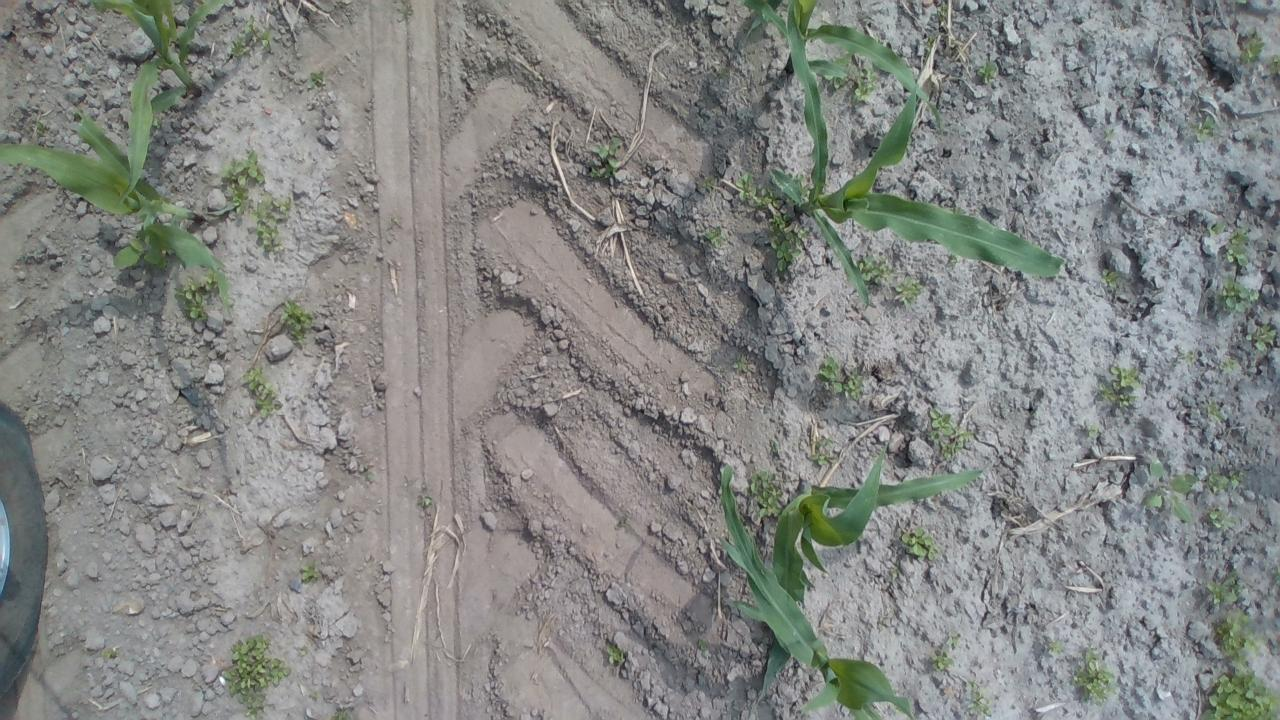Maize: (739, 0, 1064, 308), (732, 460, 988, 710), (714, 461, 916, 720), (0, 114, 234, 318), (93, 0, 230, 210), (782, 0, 942, 126), (748, 0, 782, 41)
Weeds: (222, 629, 291, 720), (1202, 668, 1280, 720), (1143, 457, 1198, 526), (1215, 606, 1267, 670), (1072, 640, 1122, 704), (220, 146, 266, 212), (252, 188, 294, 260), (925, 406, 976, 463), (767, 209, 812, 273), (241, 361, 279, 420), (176, 270, 217, 324), (818, 354, 866, 400), (225, 12, 272, 57), (584, 132, 626, 182), (735, 167, 784, 207), (1098, 364, 1140, 410), (110, 239, 170, 271), (750, 466, 784, 520), (1220, 274, 1262, 316), (930, 626, 964, 672), (280, 299, 313, 346), (1207, 566, 1243, 608), (902, 526, 940, 562), (856, 250, 896, 284), (852, 63, 882, 105), (1224, 224, 1252, 266), (964, 678, 994, 716), (893, 273, 925, 308), (1239, 25, 1265, 66), (1206, 468, 1246, 492), (1244, 322, 1272, 352), (1188, 116, 1216, 142), (1208, 505, 1236, 529), (298, 557, 322, 582), (703, 223, 726, 247), (806, 450, 837, 467), (978, 58, 998, 84), (1208, 395, 1226, 422), (605, 642, 625, 665), (306, 70, 328, 90), (731, 352, 749, 374), (1207, 219, 1229, 237), (1100, 268, 1118, 290), (395, 4, 415, 23), (1047, 636, 1068, 654), (822, 75, 844, 91), (1218, 356, 1238, 373), (362, 462, 379, 482), (700, 174, 718, 192), (1178, 348, 1196, 366), (698, 637, 712, 660), (922, 28, 935, 52), (709, 62, 728, 78), (813, 435, 836, 448), (329, 705, 348, 720), (946, 252, 962, 268), (34, 120, 50, 136), (1086, 419, 1100, 437), (100, 646, 118, 660), (1269, 52, 1280, 74), (613, 516, 628, 530), (1104, 128, 1118, 143), (946, 205, 968, 214), (299, 644, 311, 658), (770, 439, 780, 455), (938, 4, 948, 20), (890, 567, 900, 582), (422, 494, 432, 508), (308, 692, 318, 702), (1274, 567, 1280, 582), (878, 622, 888, 630), (390, 216, 400, 224), (1232, 0, 1248, 4)
